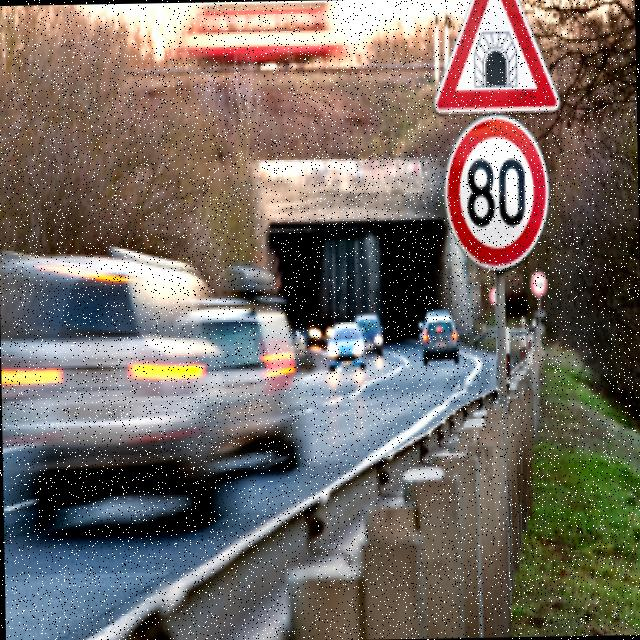speed_limit_80: (437, 108, 552, 272)
